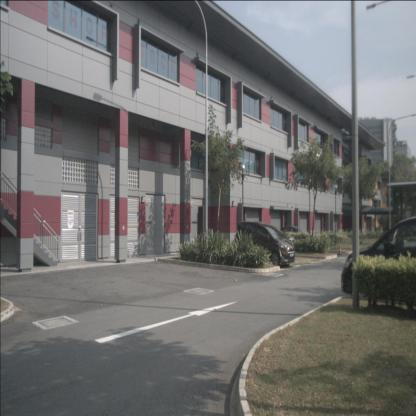cone: (337, 240, 342, 256), (360, 235, 363, 244)
